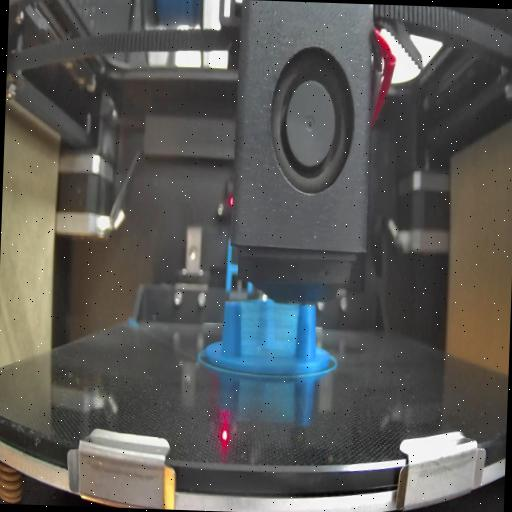stringing: (242, 304, 298, 358)
